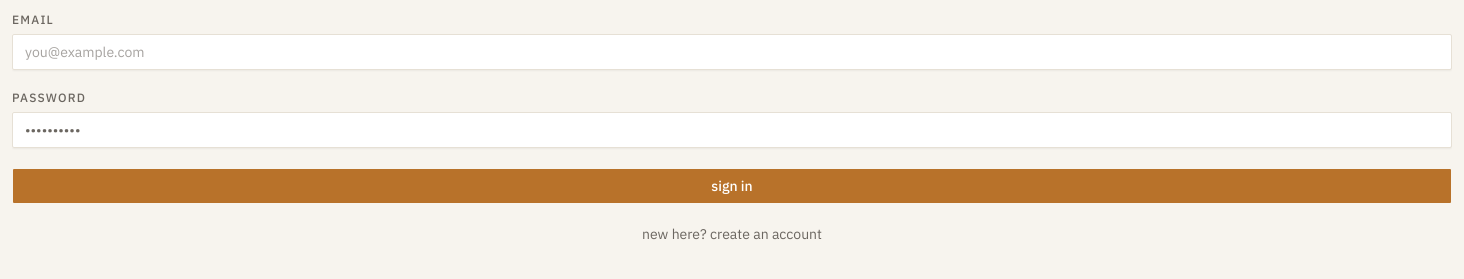
LoginForm › shows a client-side validation error for empty password on submit
Type "valid@example.com" into the field labelled "Email" at (732, 52), box [12,34,1452,70]
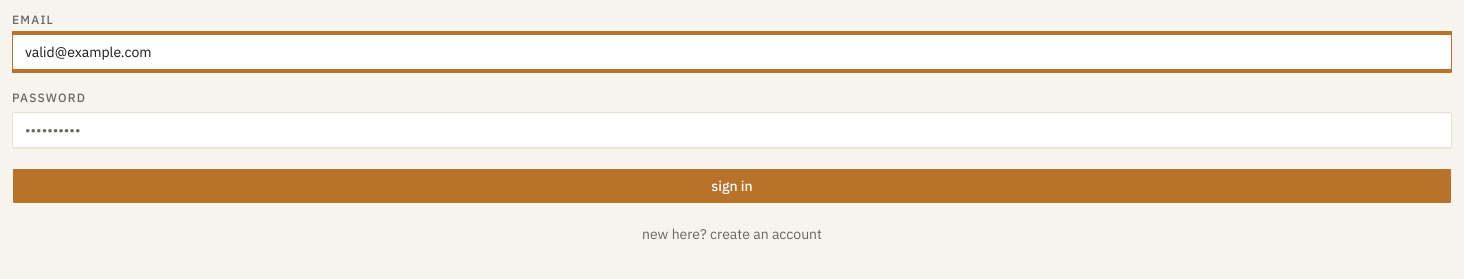
Click the button with test id "login-submit" at (732, 186), box [12,168,1452,204]
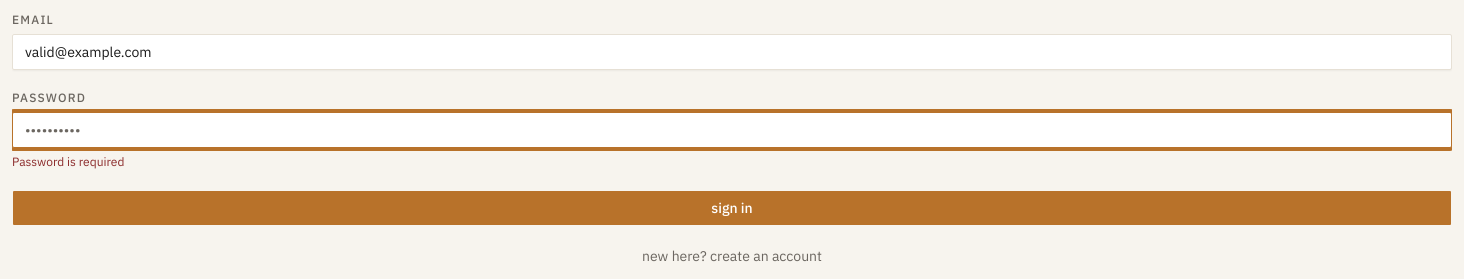
Now the text "Password is required" is shown, box [12,154,124,169]
